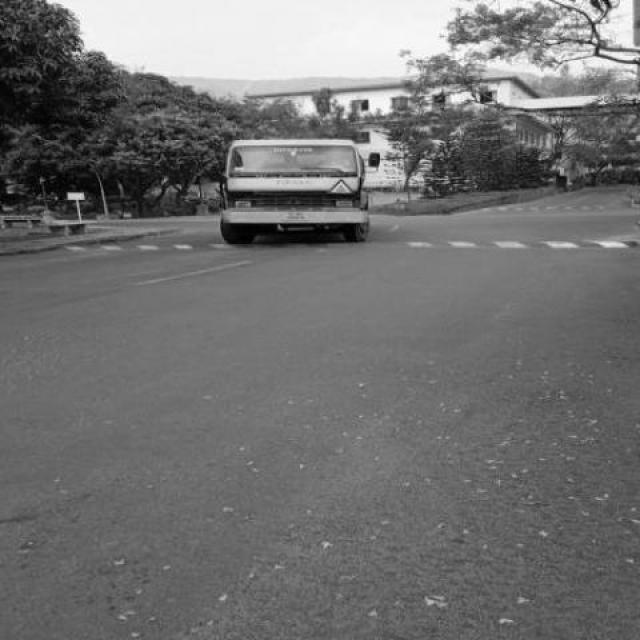Speed Bump: (39, 238, 638, 256), (482, 206, 630, 212)
